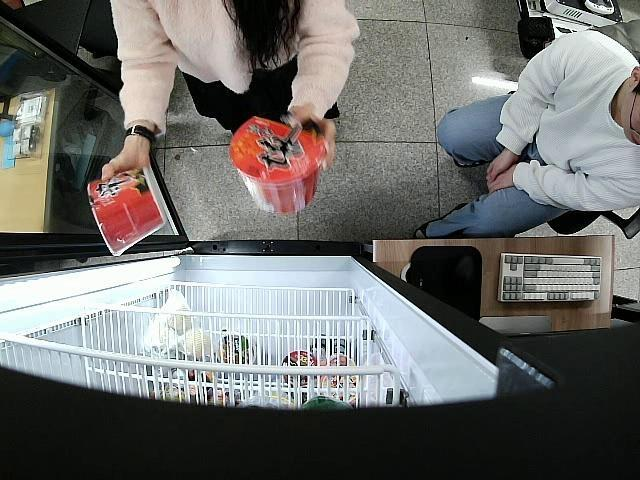01_ShinRamen_L: (230, 110, 326, 216), (86, 167, 168, 256)
